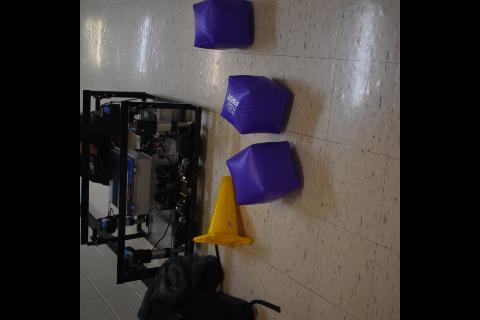cone: (193, 175, 253, 248)
cube: (226, 139, 302, 205), (220, 74, 292, 134), (192, 0, 252, 48)
